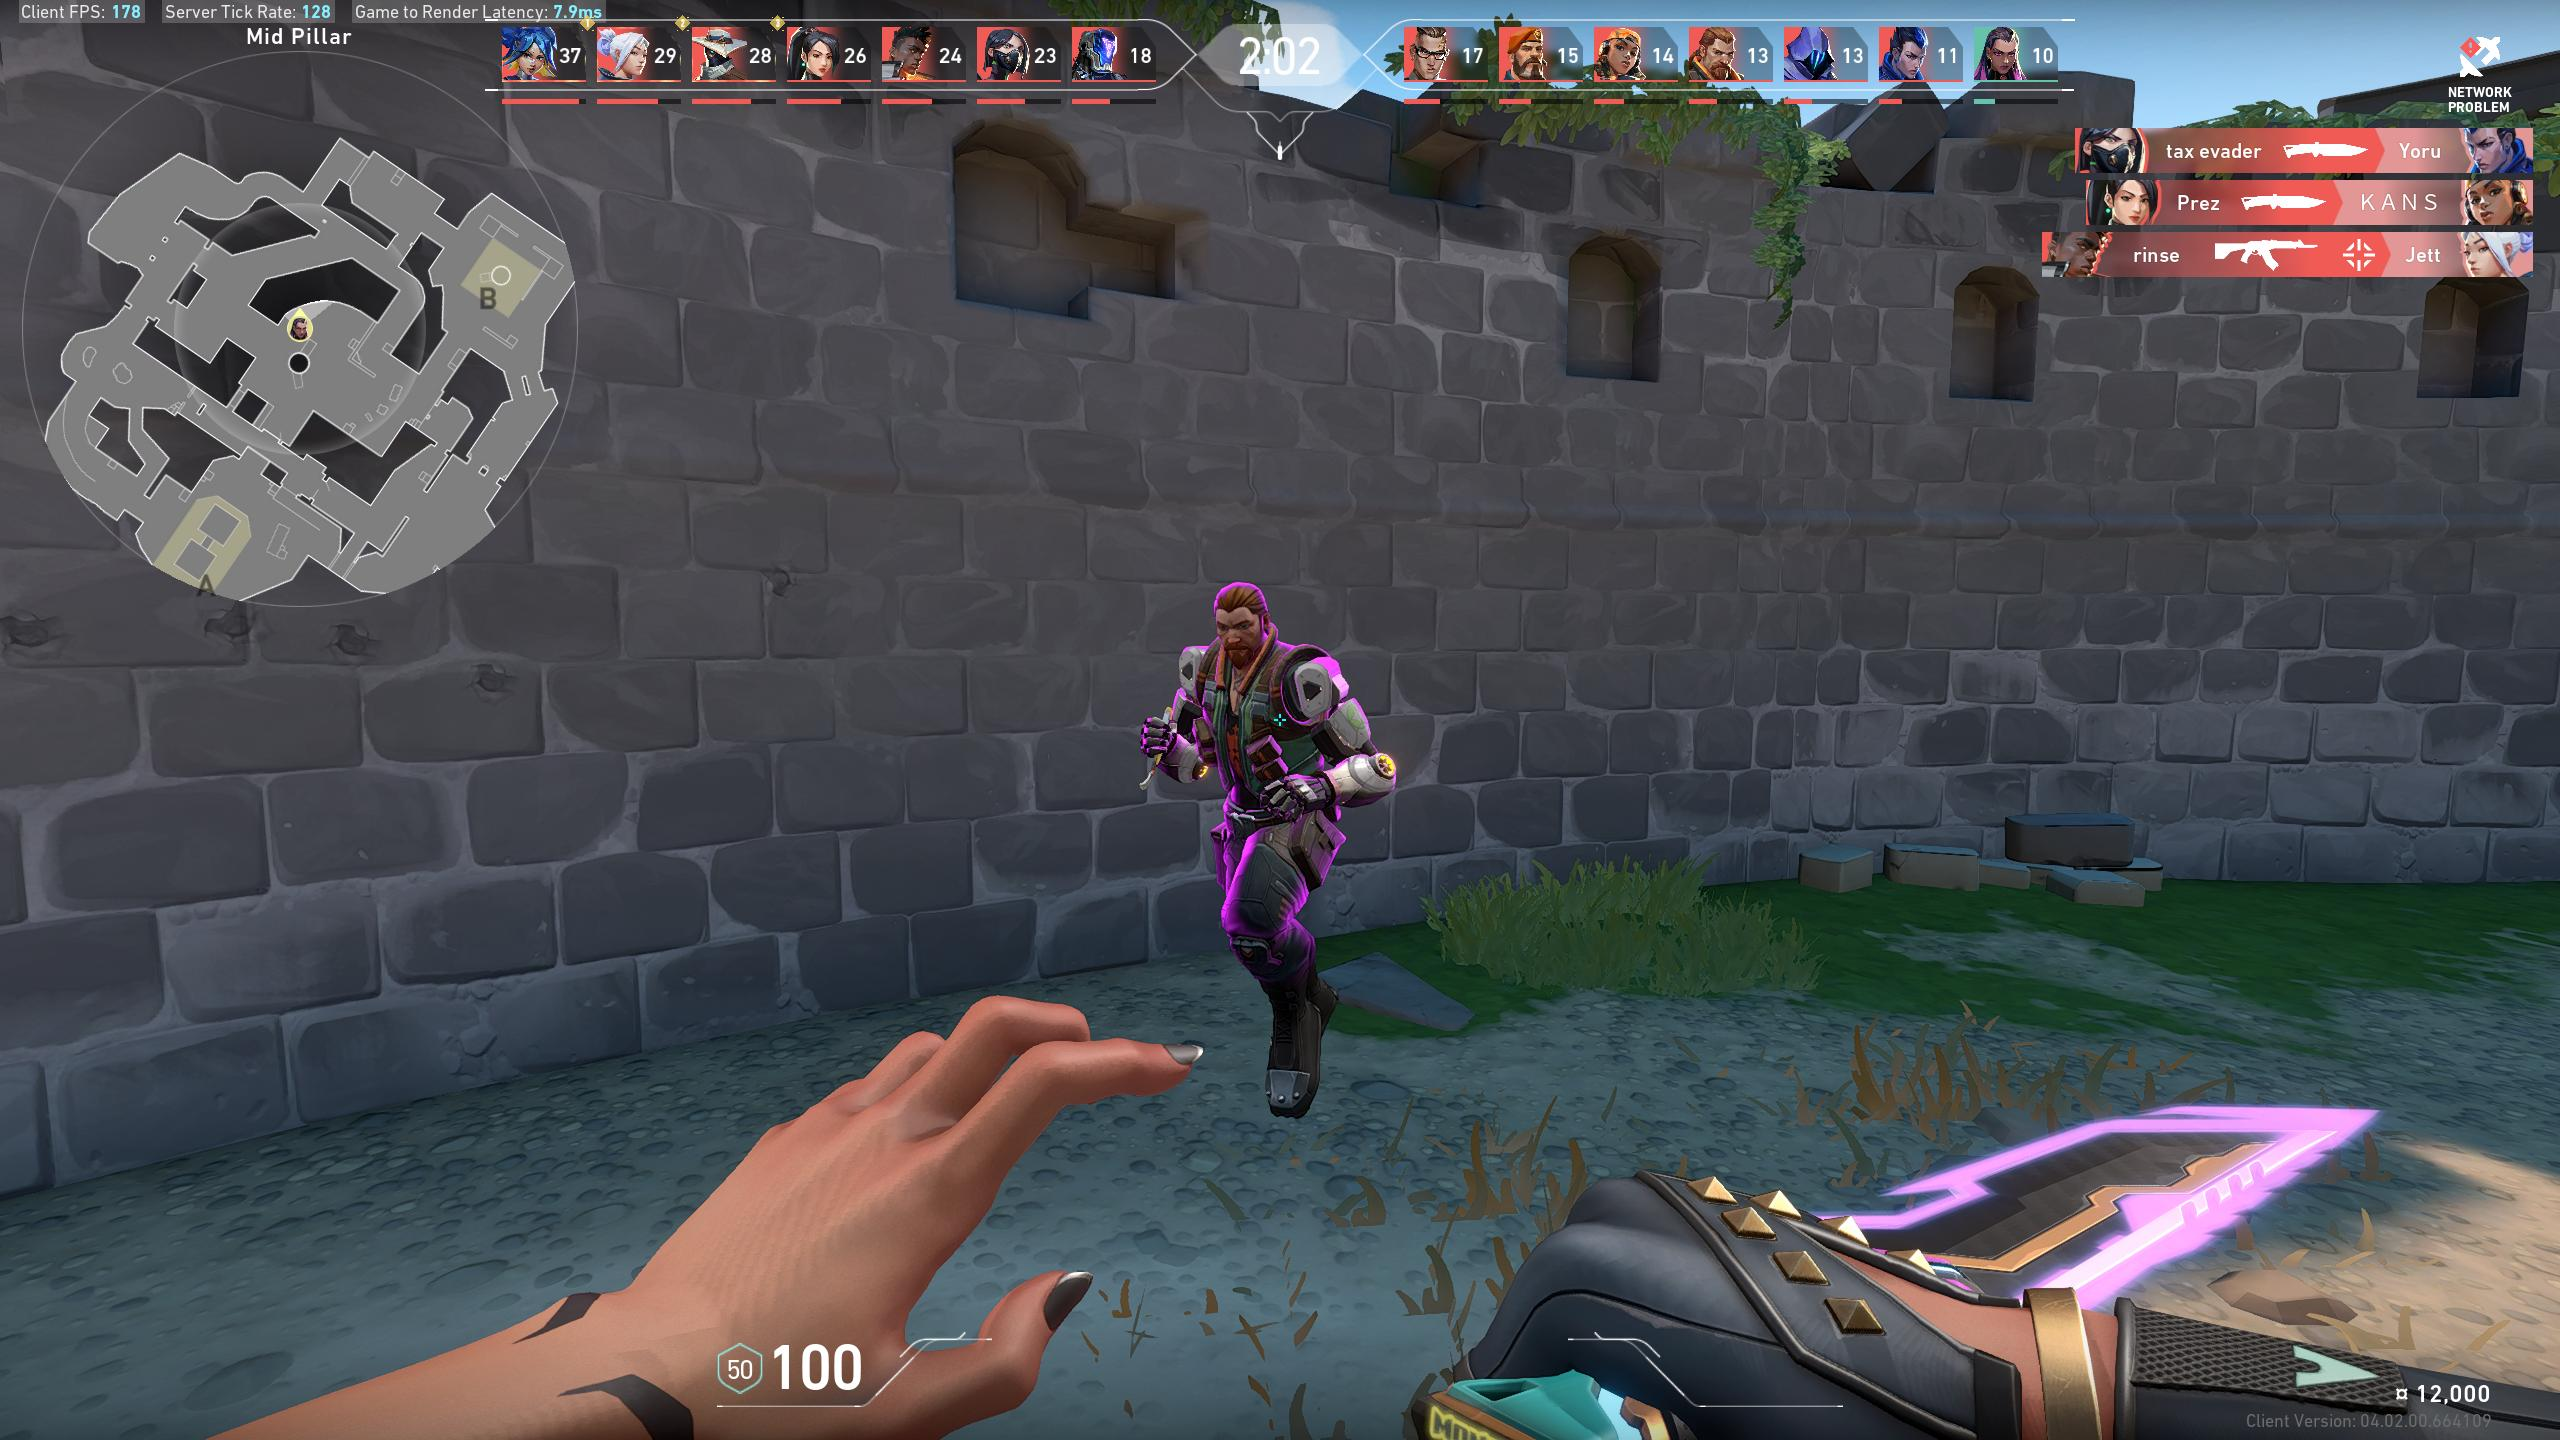enemyBody: (1215, 656, 1285, 779)
enemyHead: (1220, 600, 1261, 656)
